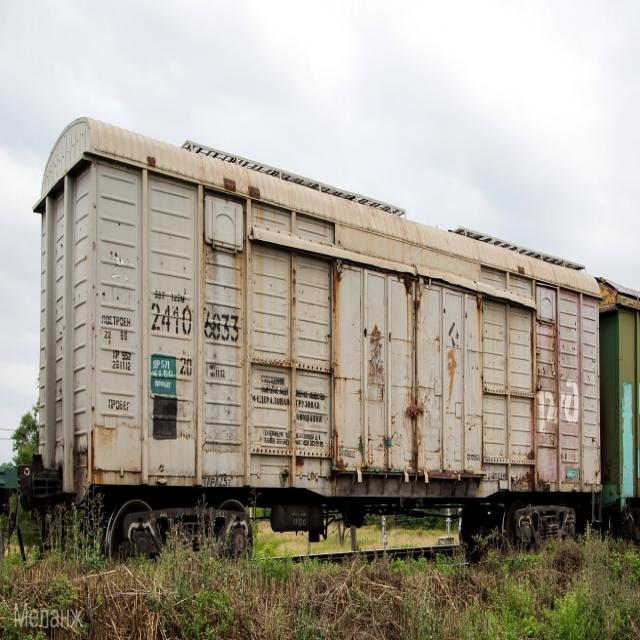boxcar: (31, 105, 606, 580)
